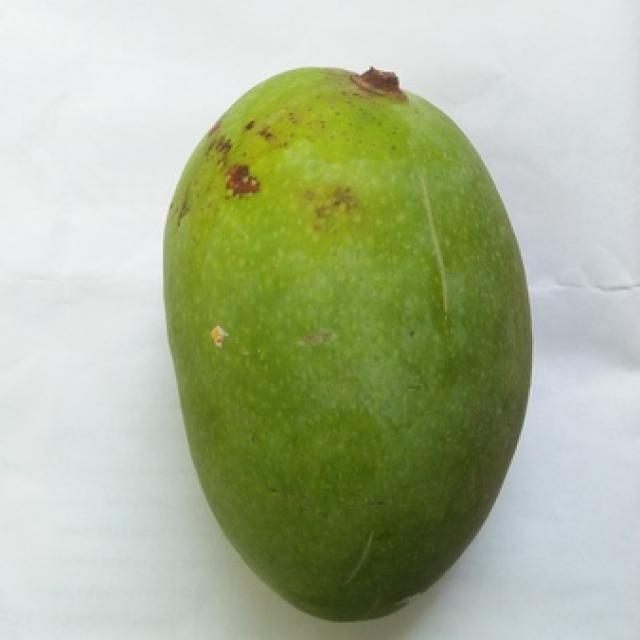Mango: (165, 68, 530, 620)
